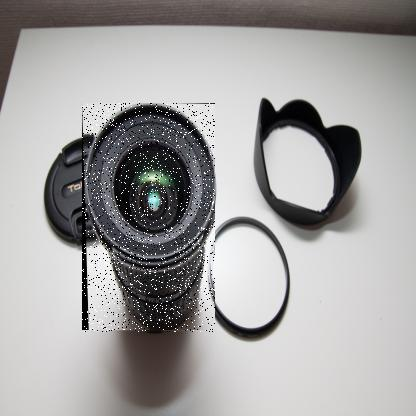Camera: (83, 105, 217, 335)
